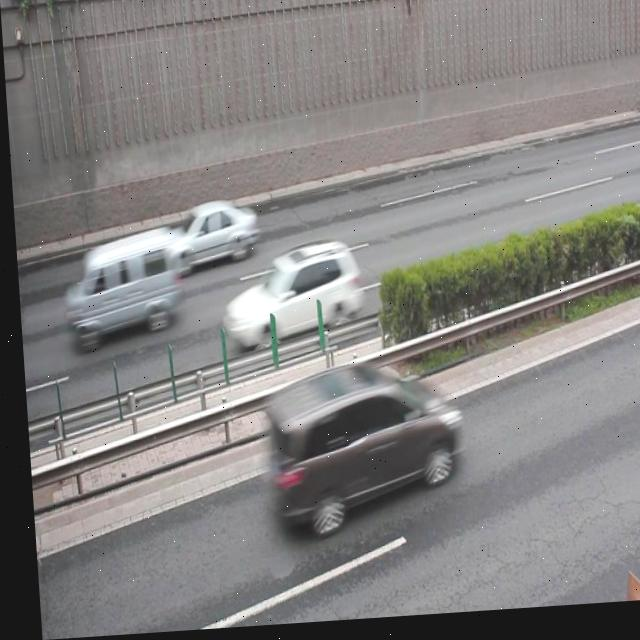car: (216, 240, 358, 351), (162, 201, 256, 273)
truck: (259, 363, 455, 536), (60, 226, 178, 344)
